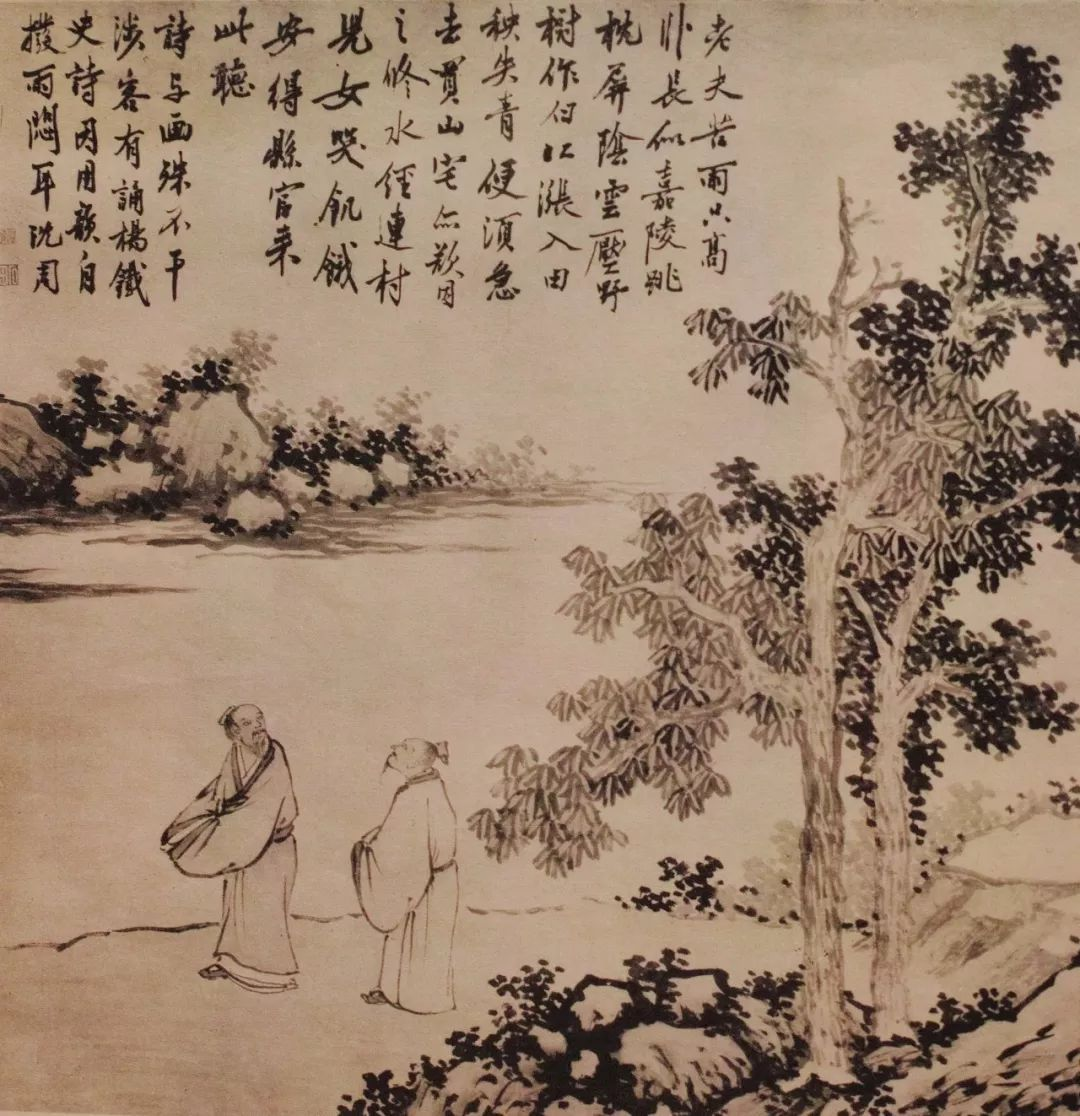hill: (454, 984, 1080, 1106), (6, 367, 467, 525)
man: (174, 708, 298, 994), (360, 744, 458, 1010)
river: (27, 547, 567, 680), (17, 700, 155, 921), (497, 397, 781, 474), (312, 700, 344, 891)
tree: (793, 552, 905, 1055), (479, 687, 744, 860), (845, 404, 1074, 552), (606, 515, 802, 651), (717, 310, 984, 401), (932, 72, 1022, 300), (917, 633, 1064, 737), (828, 195, 862, 310), (1040, 255, 1080, 347), (805, 486, 837, 546)
